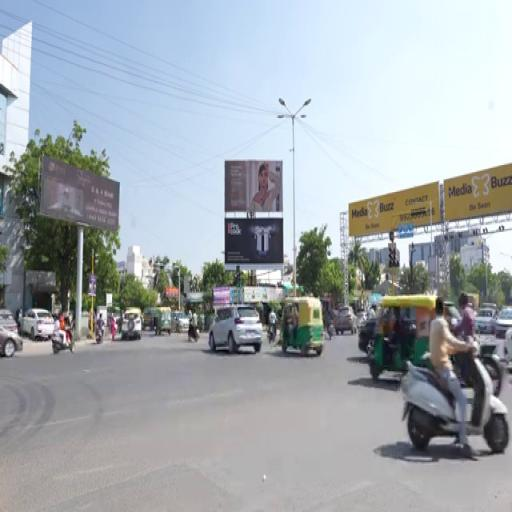Car: (209, 306, 262, 354), (20, 309, 54, 341), (495, 308, 511, 359), (0, 326, 23, 358), (358, 318, 377, 354), (121, 309, 142, 339), (335, 306, 356, 334), (476, 308, 495, 334), (0, 309, 18, 334), (172, 312, 190, 332), (504, 328, 511, 368)
